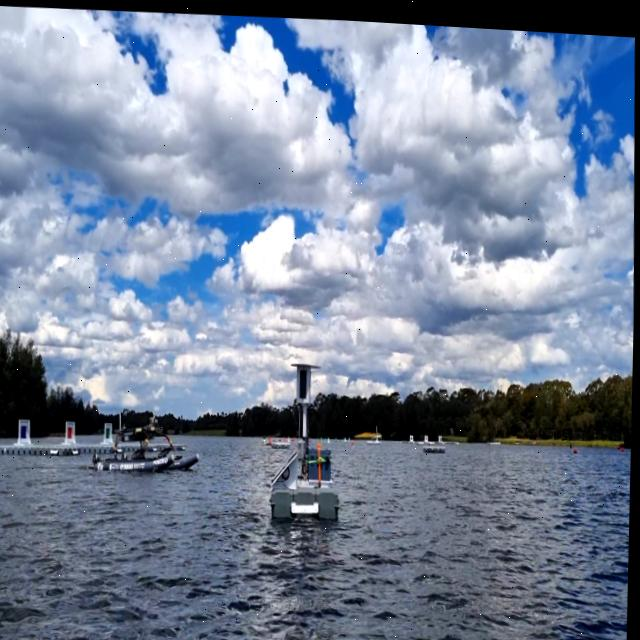led: (299, 363, 310, 395)
